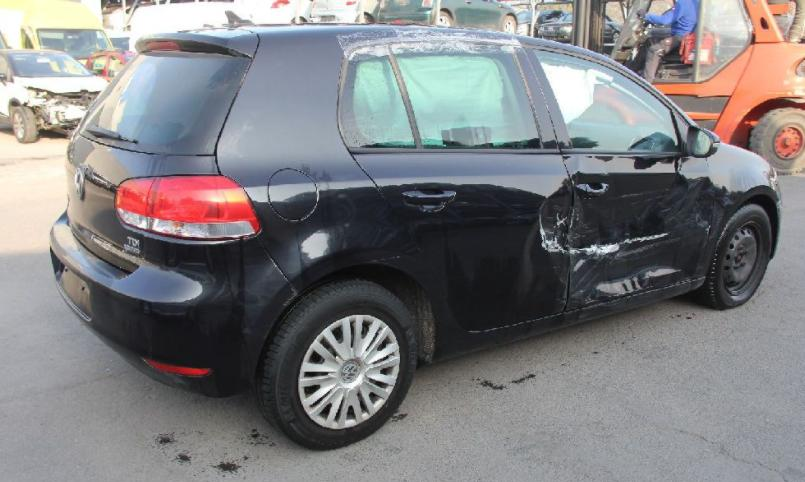Back-bumper: (48, 214, 295, 402)
Back-door: (337, 38, 572, 333)
Back-wheel: (262, 278, 415, 451)
Back-window: (392, 40, 559, 152), (341, 48, 416, 148)
Back-windshield: (80, 49, 253, 154)
Fender: (699, 136, 782, 278)
Front-door: (524, 47, 712, 312)
Front-wheel: (695, 206, 773, 312)
Front-window: (524, 47, 689, 156)
Mirror: (685, 126, 719, 157)
Quarter-panel: (216, 131, 465, 343)
Rocker-panel: (432, 276, 704, 365)
Roof: (217, 24, 604, 54)
Tail-light: (117, 177, 256, 241)
Trunk: (66, 130, 219, 273), (135, 28, 258, 57)
